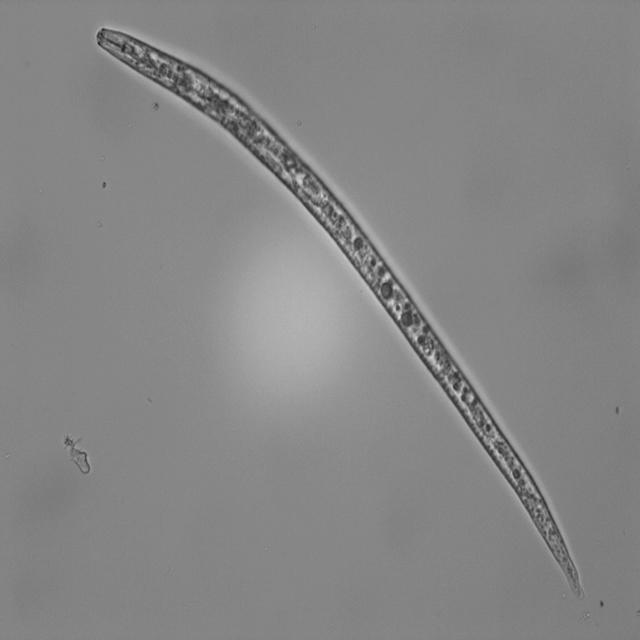Radopholus: (86, 26, 589, 608)
